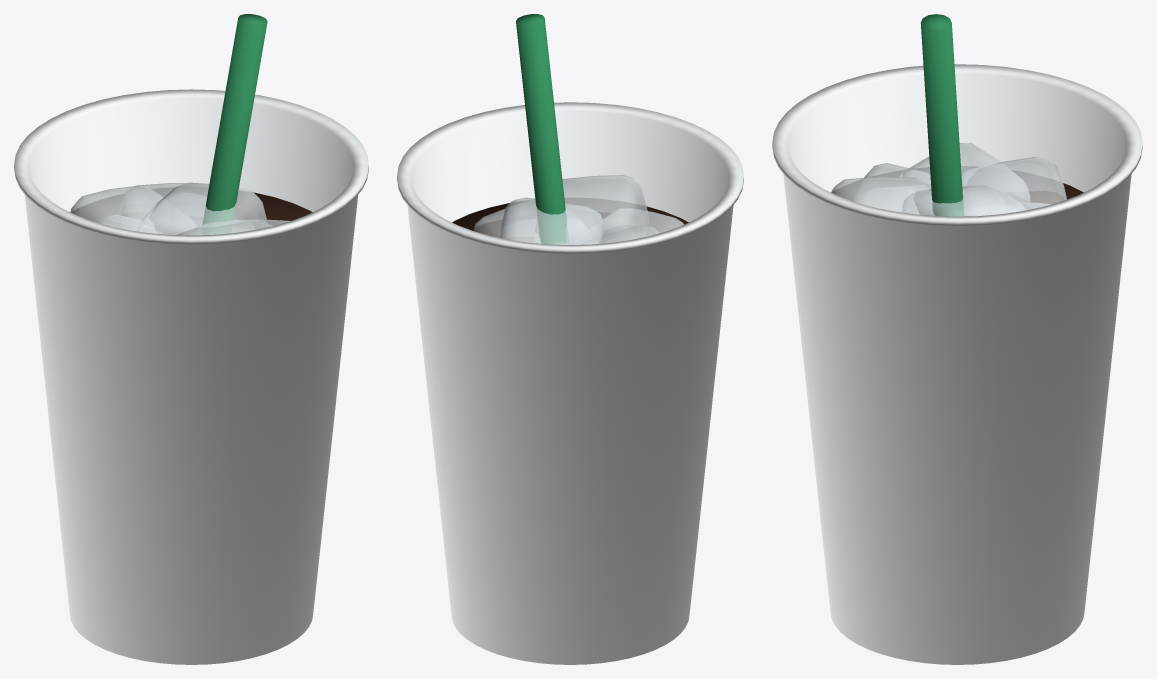
The model's file is americano.glb.
The picture shows the model from 3 angles, left to right: view 1: azimuth 30°, elevation 25°; view 2: azimuth 150°, elevation 25°; view 3: azimuth 270°, elevation 25°; orthographic projection. The views are drawn at different scales.
Parts seen in each view (by area): view 1: americano; view 2: americano; view 3: americano.
Part boxes in pixels (<box>): americano: <box>14,14,368,664</box>; americano: <box>397,14,743,664</box>; americano: <box>772,14,1142,664</box>.
Size of the model in its own units: 0.4 by 0.7353 by 0.4.
